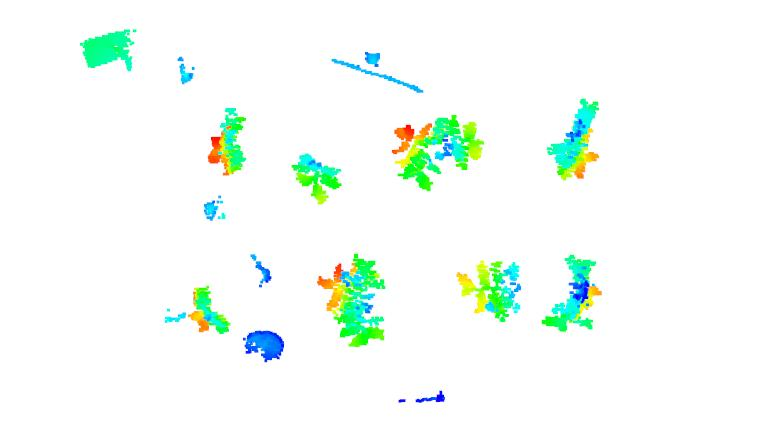chickpea: (392, 111, 494, 198), (316, 252, 387, 349), (546, 97, 608, 180), (454, 257, 527, 325), (543, 255, 598, 334), (207, 106, 248, 179), (290, 152, 343, 205), (187, 284, 232, 336)
